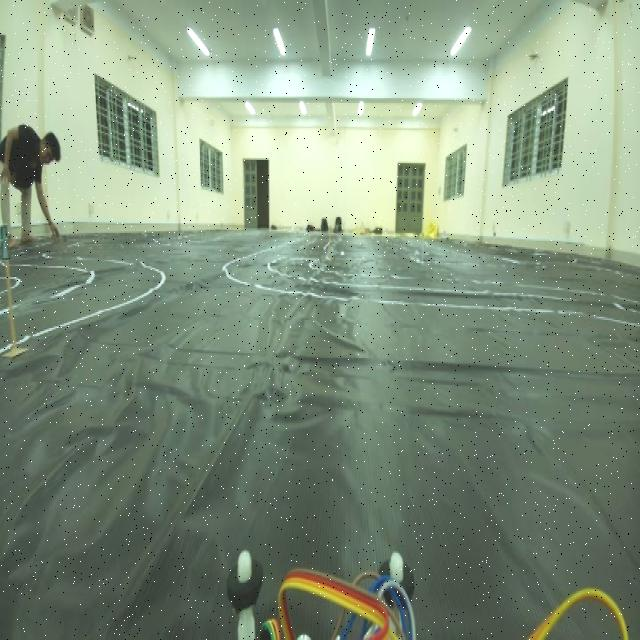highway_entry: (1, 219, 11, 272)
